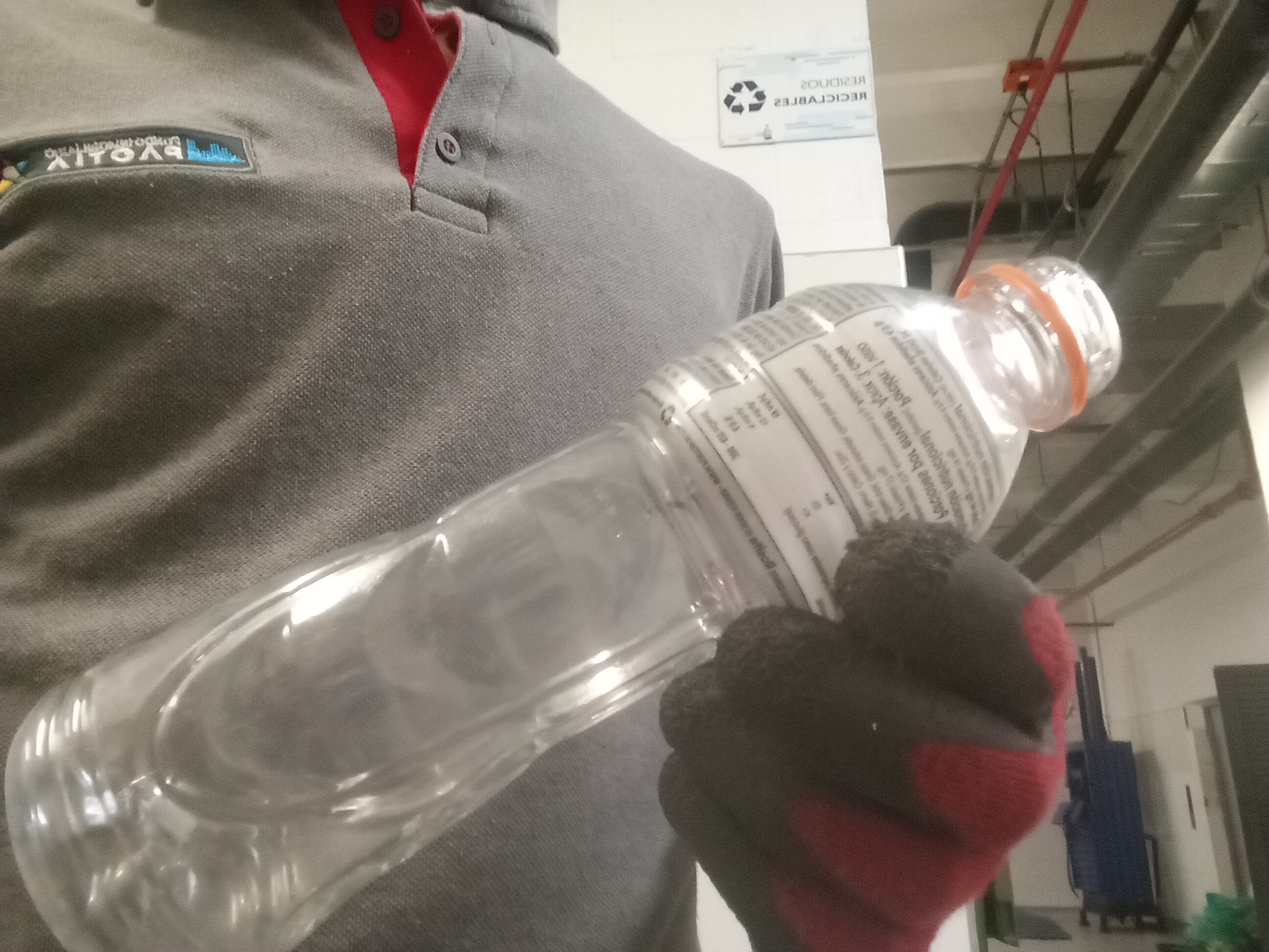Plastico: (1, 255, 1123, 952)
